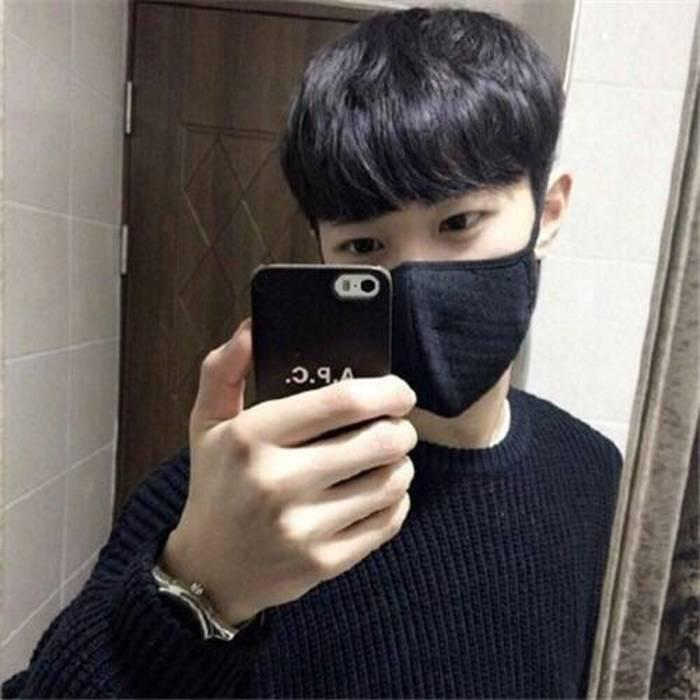OK: (311, 171, 543, 403)
